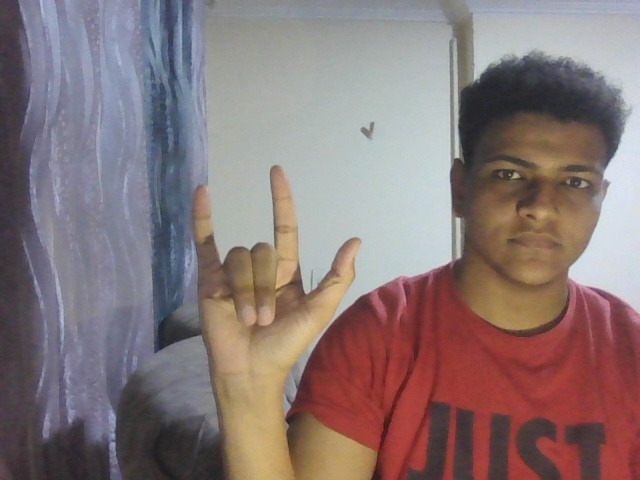iloveyou: (175, 156, 364, 375)
